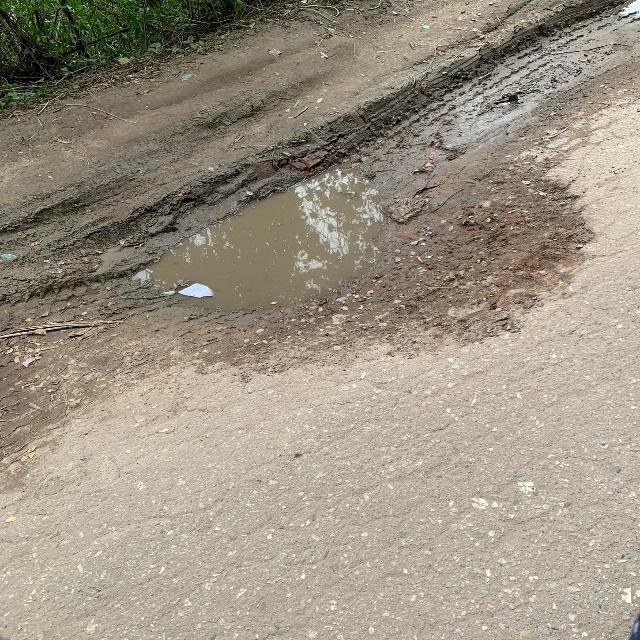Pothole: (136, 156, 360, 299)
Surface Erosion: (23, 47, 617, 459)
